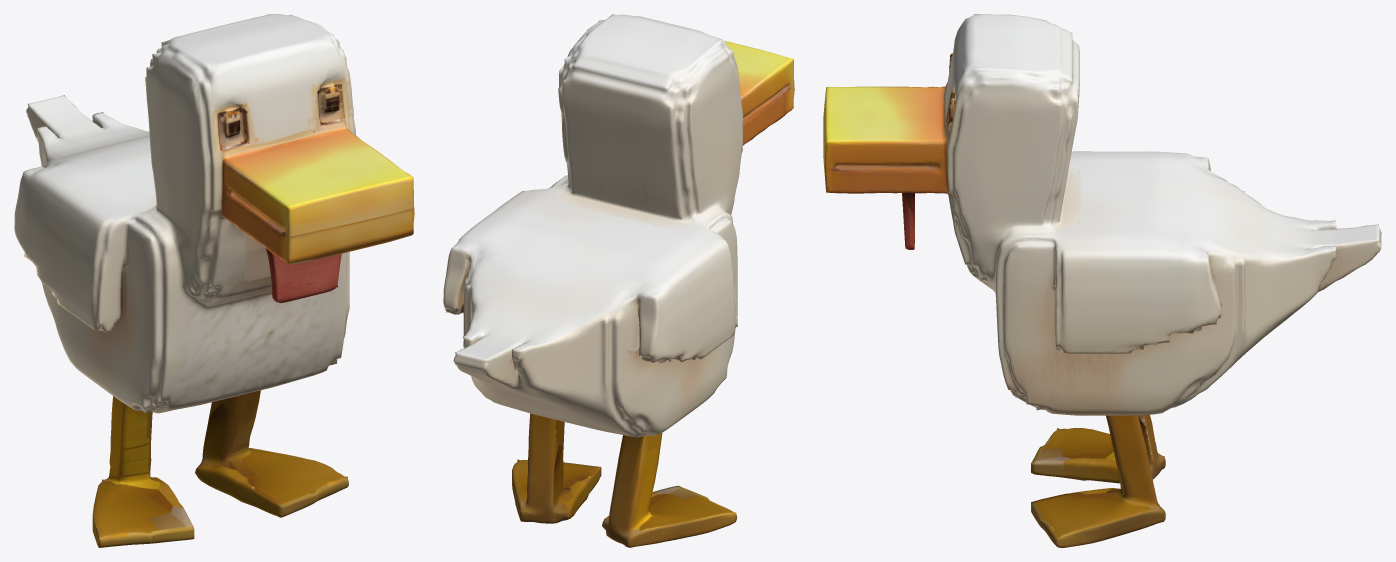
Rendered from chicken-jockey.glb.
The picture shows the model from 3 angles, left to right: view 1: azimuth 30°, elevation 25°; view 2: azimuth 150°, elevation 25°; view 3: azimuth 270°, elevation 25°; orthographic projection. The views are drawn at different scales.
Parts seen in each view (by area): view 1: Object_2; view 2: Object_2; view 3: Object_2.
Part boxes in pixels (x1,y1,x2,y2): Object_2: (14,14,414,547); Object_2: (443,14,794,547); Object_2: (823,14,1381,547).
Size of the model in its own units: 0.9018 by 1.71 by 1.9.
1 material, 1 textured.
